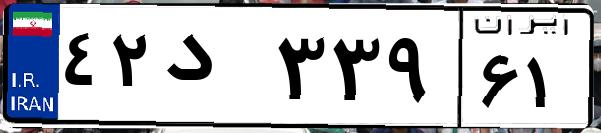1: (525, 38, 570, 115)
2: (110, 28, 158, 98)
3: (270, 28, 330, 110), (330, 28, 385, 110)
4: (57, 26, 110, 100)
6: (475, 38, 525, 113)
9: (385, 28, 445, 110)
د: (158, 20, 270, 120)
